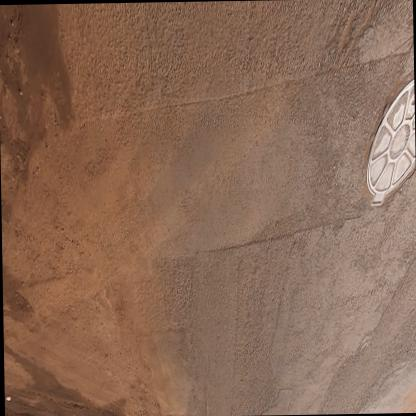manholes: (359, 66, 416, 219)
